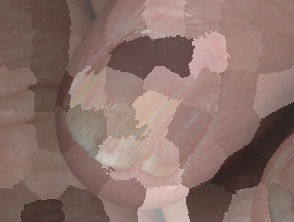Nail_psoriasis: (54, 53, 233, 192)
